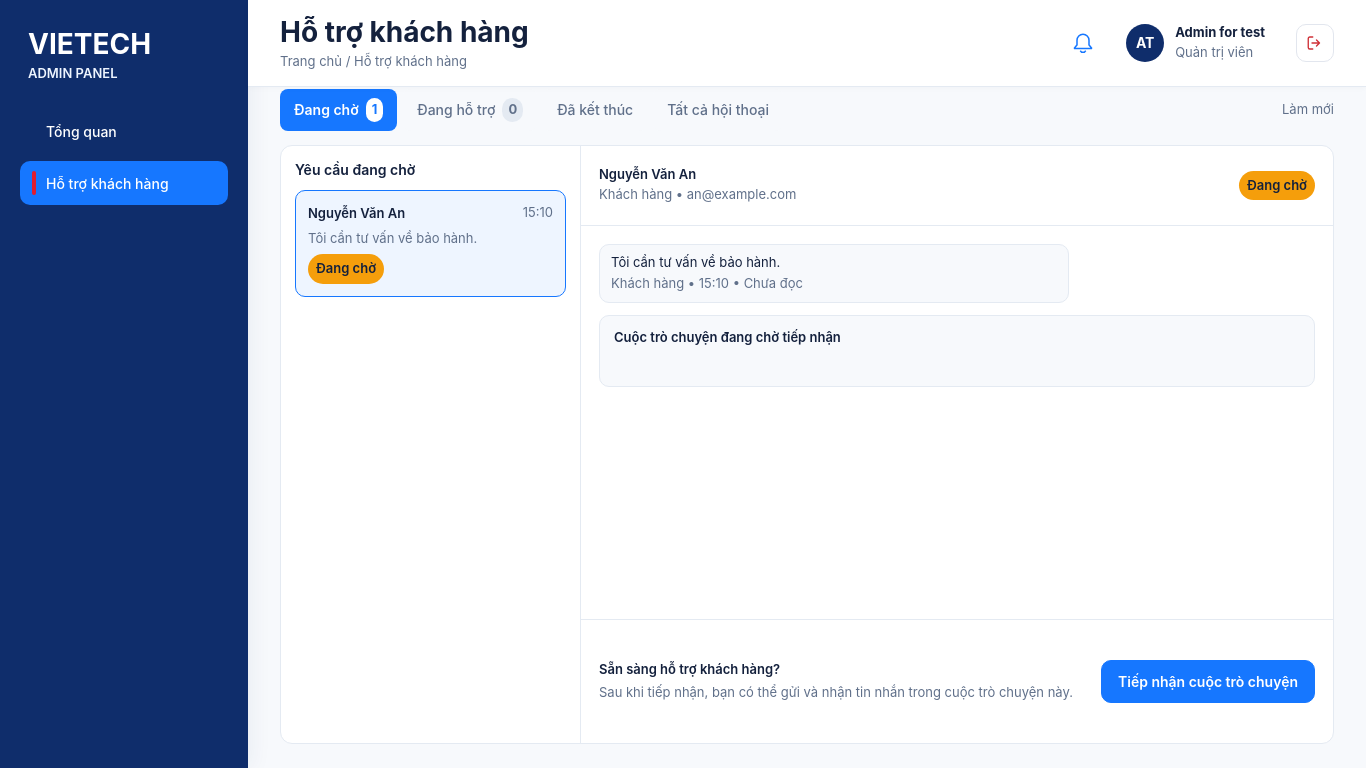
competing claim shows server conflict and never opens a reply composer
(page scrolled)
Click the button "Tiếp nhận cuộc trò chuyện": (1208, 681) [1101,660,1315,703]
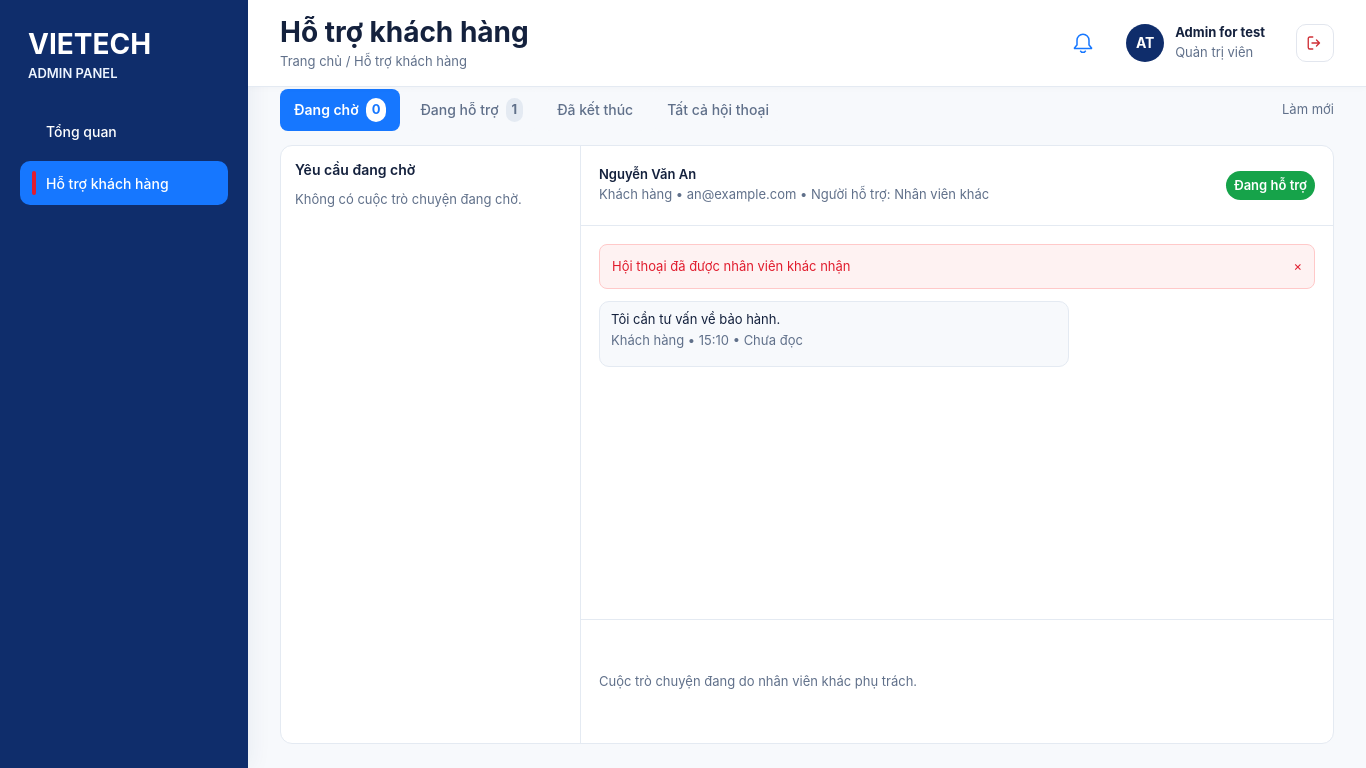
expect the text "Hội thoại đã được nhân viên khác nhận" is shown: met, box [612,258,850,274]
expect the text "Cuộc trò chuyện đang do nhân viên khác phụ trách." is shown: met, box [599,672,917,691]
expect the button "Tiếp nhận cuộc trò chuyện" is gone: met
